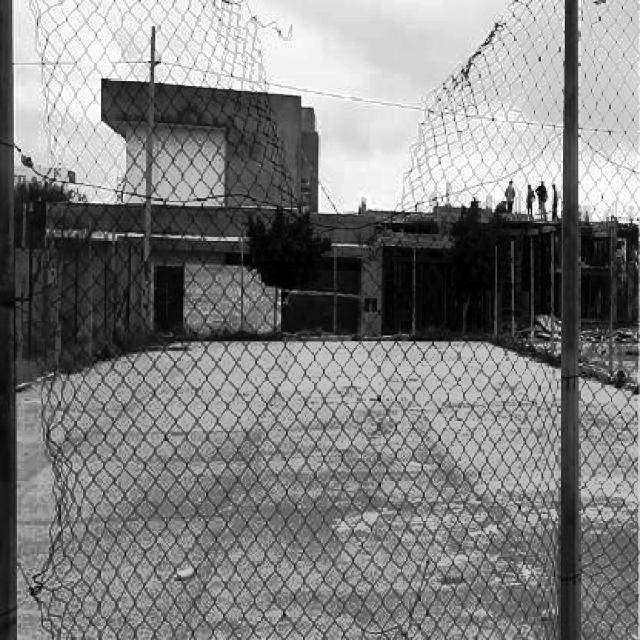anomaly-fence: (243, 1, 561, 243), (8, 2, 82, 637)
